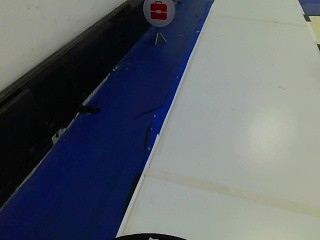company: (144, 0, 175, 28)
